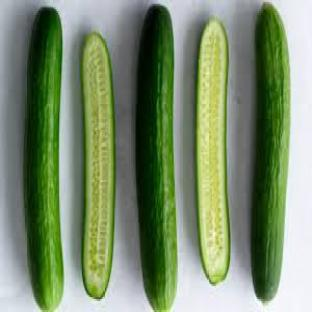Cucumber: (137, 6, 176, 311), (24, 8, 63, 310), (252, 4, 290, 300), (82, 32, 115, 298), (196, 19, 229, 284)
